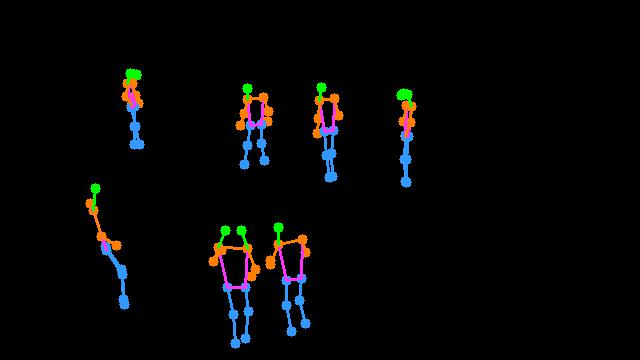normal: (75, 169, 146, 320), (204, 208, 263, 360), (262, 212, 320, 353), (233, 53, 279, 175), (386, 80, 429, 198), (306, 75, 349, 190), (119, 65, 151, 154)
